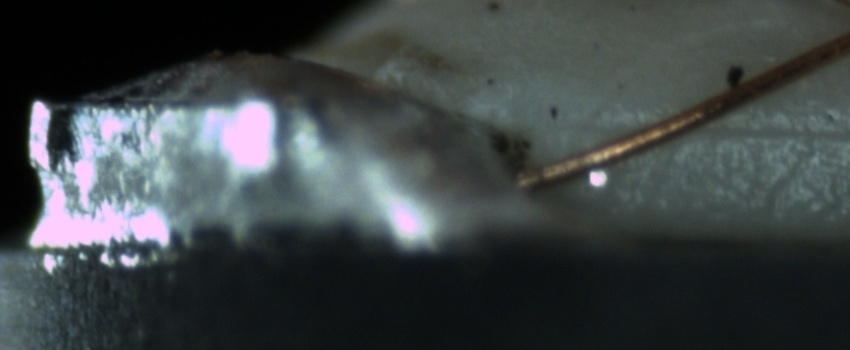DL: (577, 96, 843, 161)
